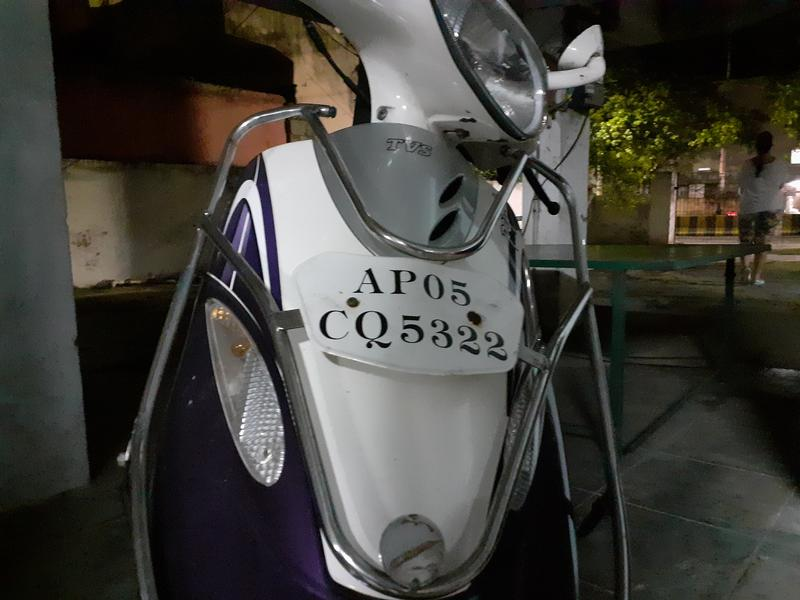numberplate: (293, 256, 533, 373)
